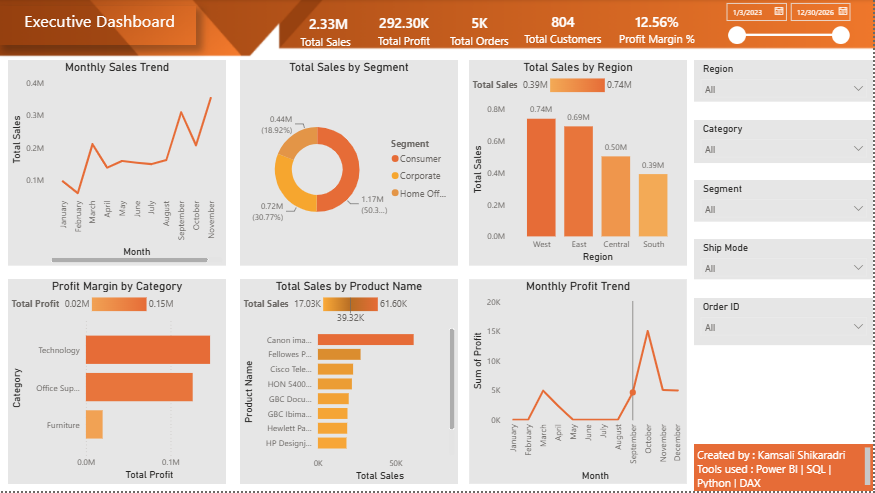

The page's visual inventory and layout, read from the dashboard file:
{"tool":"powerbi","page":{"name":"Page 1","canvas":[1280,720],"ordinal":0},"visuals":[{"type":"lineChart","title":"Monthly Sales Trend","fields":{"Category":["samplesuperstore.Order Date.Variation.Date Hierarchy.Month"],"Y":["samplesuperstore.Total Sales"]},"box":[13.2,89.3,319,301.5],"z":0},{"type":"barChart","title":"Profit Margin by Category","fields":{"Category":["samplesuperstore.Category"],"Y":["samplesuperstore.Total Profit"]},"box":[13.2,409.8,319,300],"z":1000},{"type":"columnChart","title":"Total Sales by Region ","fields":{"Category":["samplesuperstore.Region"],"Y":["samplesuperstore.Total Sales"]},"box":[687.8,89.3,319,301.5],"z":2000},{"type":"barChart","fields":{"Category":["samplesuperstore.Product Name"],"Y":["samplesuperstore.Total Sales"]},"box":[352.7,409.8,319,300],"z":3000},{"type":"donutChart","fields":{"Category":["samplesuperstore.Segment"],"Y":["samplesuperstore.Total Sales"]},"box":[352.7,89.3,319,301.5],"z":4000},{"type":"lineChart","title":"Monthly Profit Trend","fields":{"Category":["samplesuperstore.Order Date.Variation.Date Hierarchy.Month"],"Y":["Sum(samplesuperstore.Profit)"]},"box":[687.8,409.8,319,300],"z":5000},{"type":"slicer","fields":{"Values":["samplesuperstore.Region"]},"box":[1017.1,89.3,263.4,61.5],"z":6000},{"type":"slicer","fields":{"Values":["samplesuperstore.Category"]},"box":[1017.1,177.1,263.4,62.9],"z":7000},{"type":"slicer","fields":{"Values":["samplesuperstore.Segment"]},"box":[1017.1,264.9,263.4,61.5],"z":8000},{"type":"slicer","fields":{"Values":["samplesuperstore.Ship Mode"]},"box":[1017.1,351.2,263.4,58.5],"z":9000},{"type":"slicer","fields":{"Values":["samplesuperstore.Order ID"]},"box":[1017.1,437.6,263.4,68.8],"z":10000},{"type":"cardVisual","fields":{"Data":["samplesuperstore.Total Sales"]},"box":[425.9,10.2,112.7,74.6],"z":11000},{"type":"cardVisual","fields":{"Data":["samplesuperstore.Total Profit"]},"box":[538.5,8.8,108.3,73.2],"z":12000},{"type":"cardVisual","fields":{"Data":["samplesuperstore.Total Orders"]},"box":[646.8,8.8,112.7,73.2],"z":13000},{"type":"cardVisual","fields":{"Data":["samplesuperstore.Total Customers"]},"box":[759.5,8.8,131.7,70.2],"z":14000},{"type":"slicer","fields":{"Values":["samplesuperstore.Order Date"]},"box":[1056.6,0,209.3,89.3],"z":15000},{"type":"textbox","box":[0,10.2,288.3,57.1],"z":16000},{"type":"textbox","box":[1017.1,651.2,263.4,68.8],"z":17000},{"type":"cardVisual","fields":{"Data":["samplesuperstore.Profit Margin %"]},"box":[891.2,8.8,143.4,70.2],"z":19000}]}

Visuals, with their boxes in screenshot pixels (x1, y1, x2, y2), scaled from the page's 1280x720 canvas onto the 875x493 screenshot:
"Monthly Sales Trend" lineChart: x1=9 y1=61 x2=227 y2=268
"Profit Margin by Category" barChart: x1=9 y1=281 x2=227 y2=486
"Total Sales by Region " columnChart: x1=470 y1=61 x2=688 y2=268
barChart - samplesuperstore.Product Name x samplesuperstore.Total Sales: x1=241 y1=281 x2=459 y2=486
donutChart - samplesuperstore.Segment x samplesuperstore.Total Sales: x1=241 y1=61 x2=459 y2=268
"Monthly Profit Trend" lineChart: x1=470 y1=281 x2=688 y2=486
slicer - samplesuperstore.Region: x1=695 y1=61 x2=874 y2=103
slicer - samplesuperstore.Category: x1=695 y1=121 x2=874 y2=164
slicer - samplesuperstore.Segment: x1=695 y1=181 x2=874 y2=223
slicer - samplesuperstore.Ship Mode: x1=695 y1=240 x2=874 y2=281
slicer - samplesuperstore.Order ID: x1=695 y1=300 x2=874 y2=347
cardVisual - samplesuperstore.Total Sales: x1=291 y1=7 x2=368 y2=58
cardVisual - samplesuperstore.Total Profit: x1=368 y1=6 x2=442 y2=56
cardVisual - samplesuperstore.Total Orders: x1=442 y1=6 x2=519 y2=56
cardVisual - samplesuperstore.Total Customers: x1=519 y1=6 x2=609 y2=54
slicer - samplesuperstore.Order Date: x1=722 y1=0 x2=865 y2=61
textbox: x1=0 y1=7 x2=197 y2=46
textbox: x1=695 y1=446 x2=874 y2=492
cardVisual - samplesuperstore.Profit Margin %: x1=609 y1=6 x2=707 y2=54
